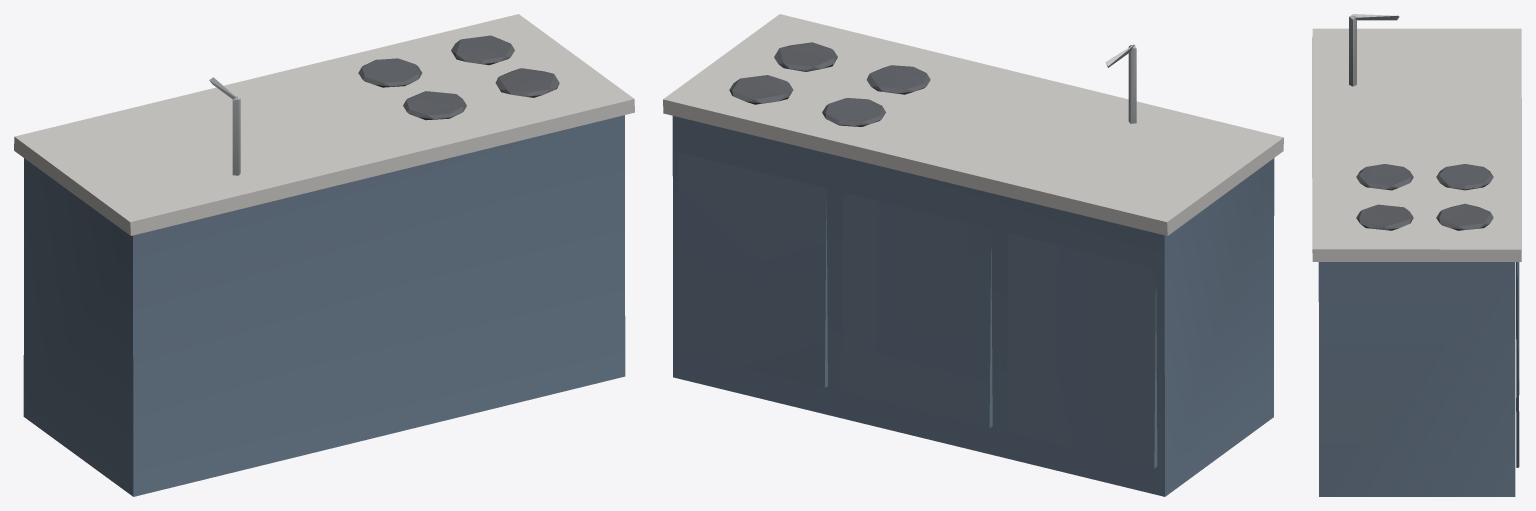
The model's file is furn_counter__navy_low.glb.
3 views of the same model, side by side, from view 1: azimuth 30°, elevation 25°; view 2: azimuth 150°, elevation 25°; view 3: azimuth 270°, elevation 25° (orthographic). The views are drawn at different scales.
Size of the model in its own units: 1.63 by 1.1 by 0.6537.
